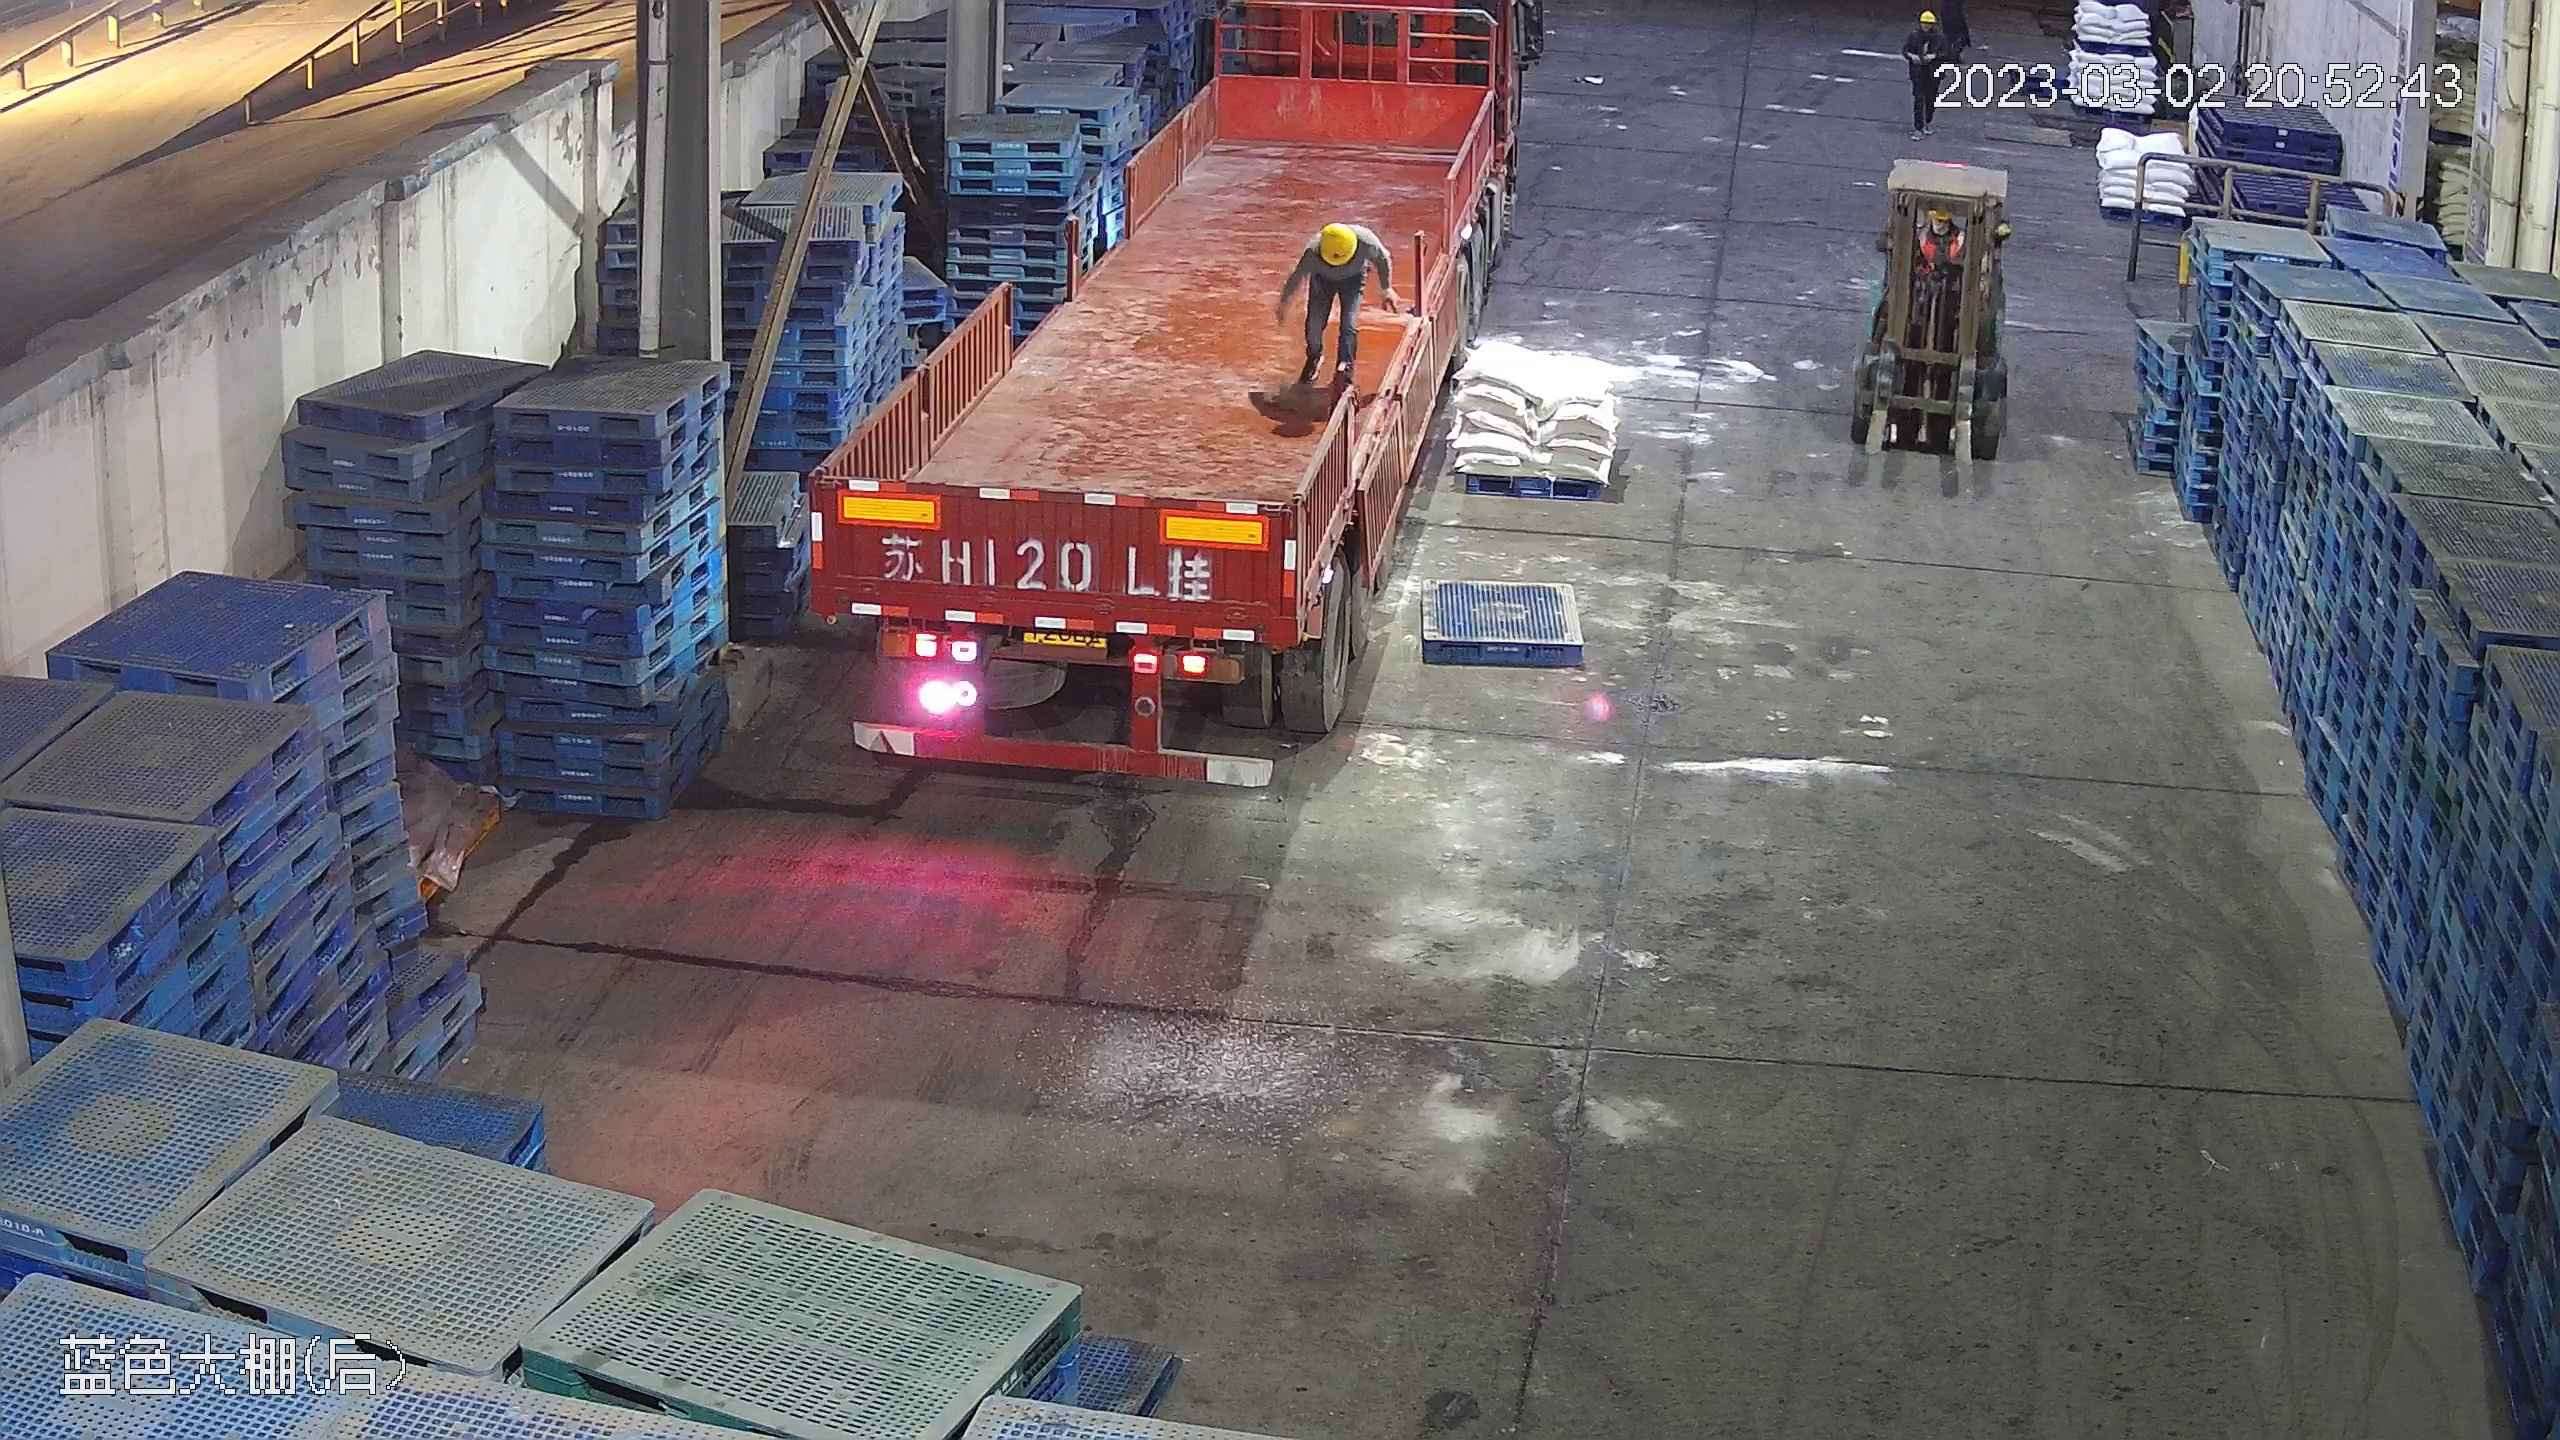head: (1293, 218, 1377, 281), (1907, 7, 1946, 52)
helmet: (1311, 218, 1360, 266), (1918, 11, 1935, 25)
people: (1271, 217, 1388, 397), (1900, 7, 1955, 136)
truck: (805, 1, 1522, 789)
